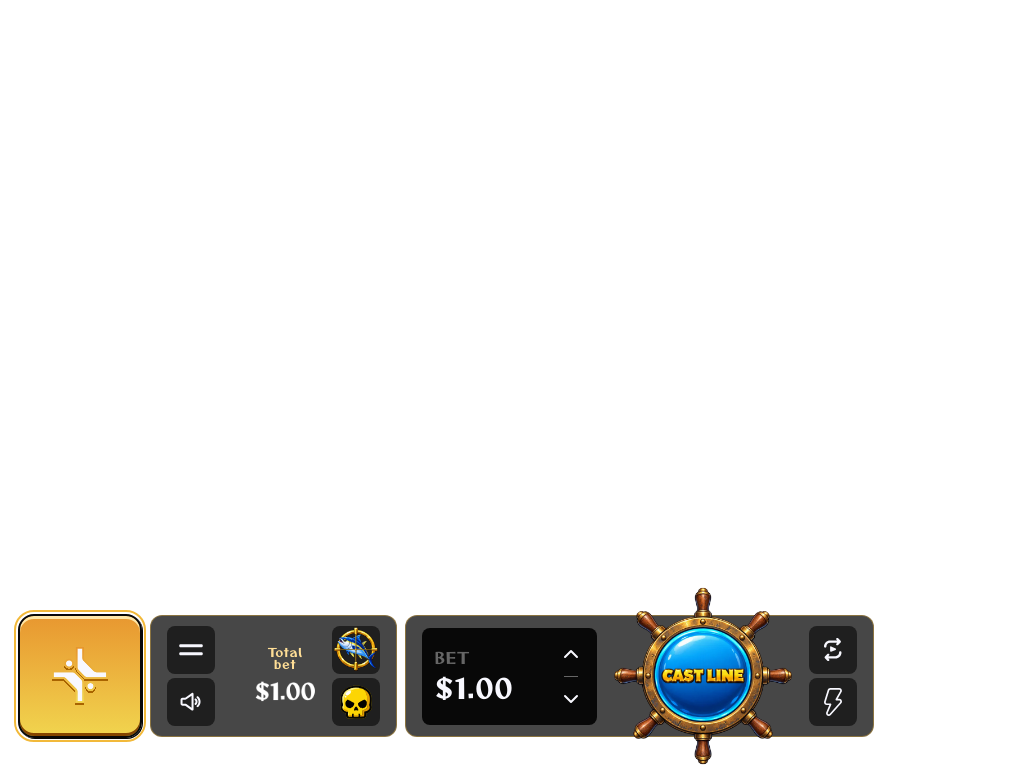
Test: opens the bonus modal from the Bonus button, closes it again, and returns focus to the button
The image size is (1024, 768).
Click the button named "Bonus".
click(80, 676)  # box left=18, top=614, right=142, bottom=738
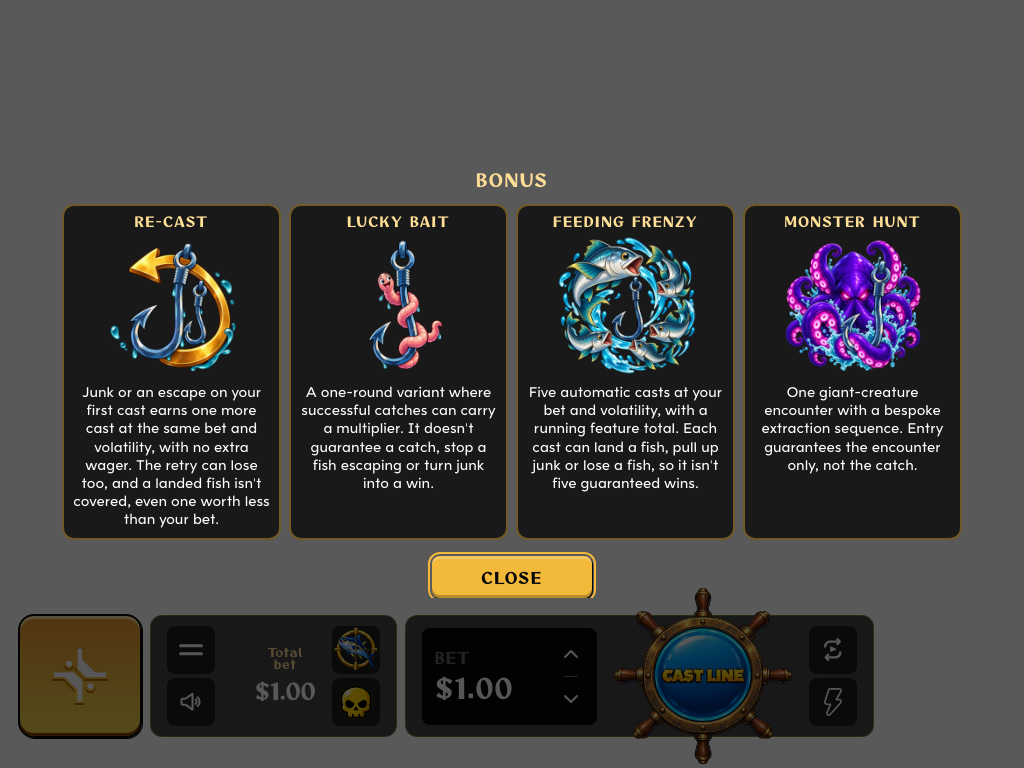
Expected: the dialog "Bonus" is shown, left=62, top=170, right=962, bottom=598
Click the button "Close".
click(512, 577)  # box left=432, top=556, right=592, bottom=598
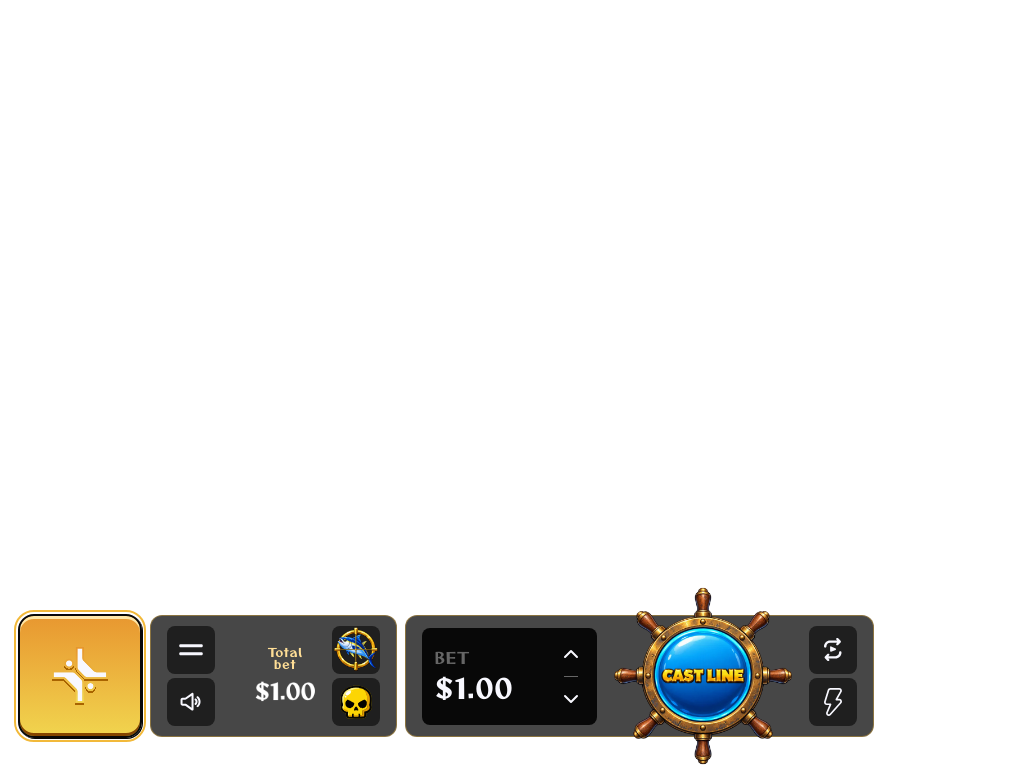
Expected: the dialog is gone
